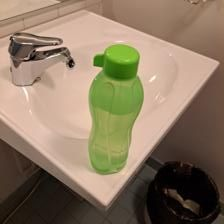bottle: (85, 44, 141, 175)
